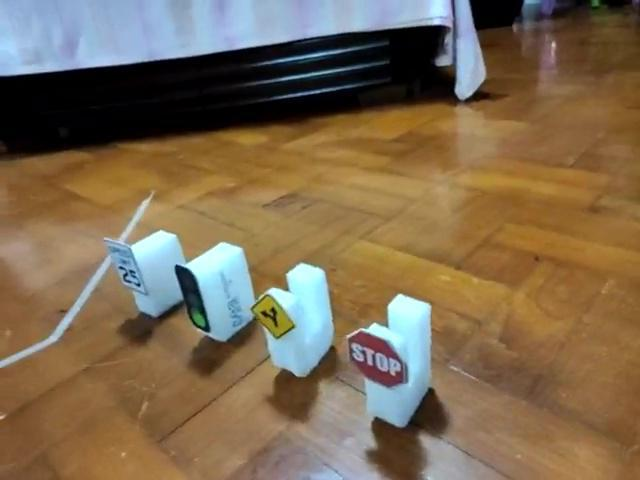Green Traffic Light: (174, 263, 209, 331)
Speed Limit 25: (101, 242, 147, 292)
Stop Sign: (345, 329, 411, 391)
Straight Or Left Sign: (250, 294, 295, 341)
